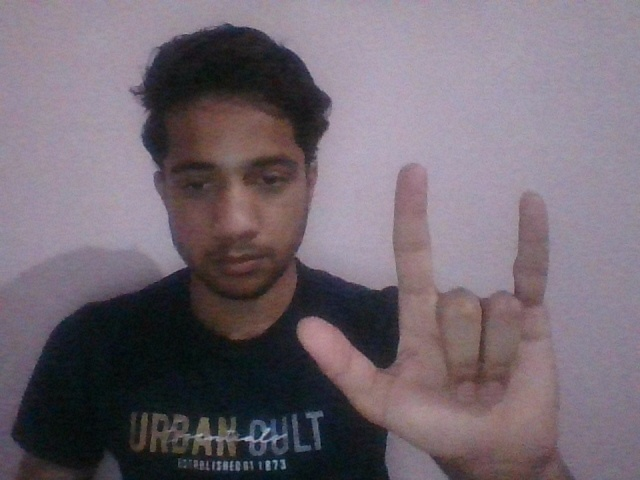iloveyou: (301, 163, 577, 467)
